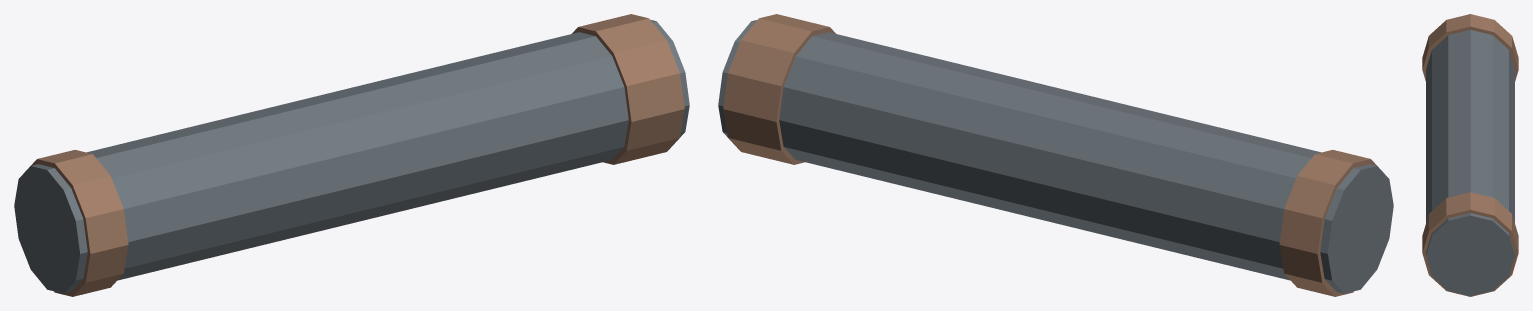
The model's file is pipe.glb.
The picture shows the model from 3 angles, left to right: view 1: azimuth 30°, elevation 25°; view 2: azimuth 150°, elevation 25°; view 3: azimuth 270°, elevation 25°; orthographic projection. The views are drawn at different scales.
Parts seen in each view (by area): view 1: 00_pipe, 02_rusted_collar, 01_rusted_collar; view 2: 00_pipe, 02_rusted_collar, 01_rusted_collar; view 3: 00_pipe, 02_rusted_collar, 01_rusted_collar.
Part boxes in pixels (box(x1,y1,x2,y2)): 00_pipe: box(14, 20, 689, 293); 02_rusted_collar: box(572, 14, 684, 164); 01_rusted_collar: box(25, 150, 128, 296); 00_pipe: box(718, 20, 1393, 293); 02_rusted_collar: box(723, 14, 835, 164); 01_rusted_collar: box(1279, 150, 1382, 296); 00_pipe: box(1426, 30, 1514, 296); 02_rusted_collar: box(1422, 192, 1518, 296); 01_rusted_collar: box(1422, 14, 1518, 81).
Bounding box in the file's own units: 0.8 × 0.162 × 0.162.
